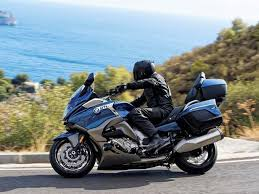motorcycle: (45, 70, 228, 178)
